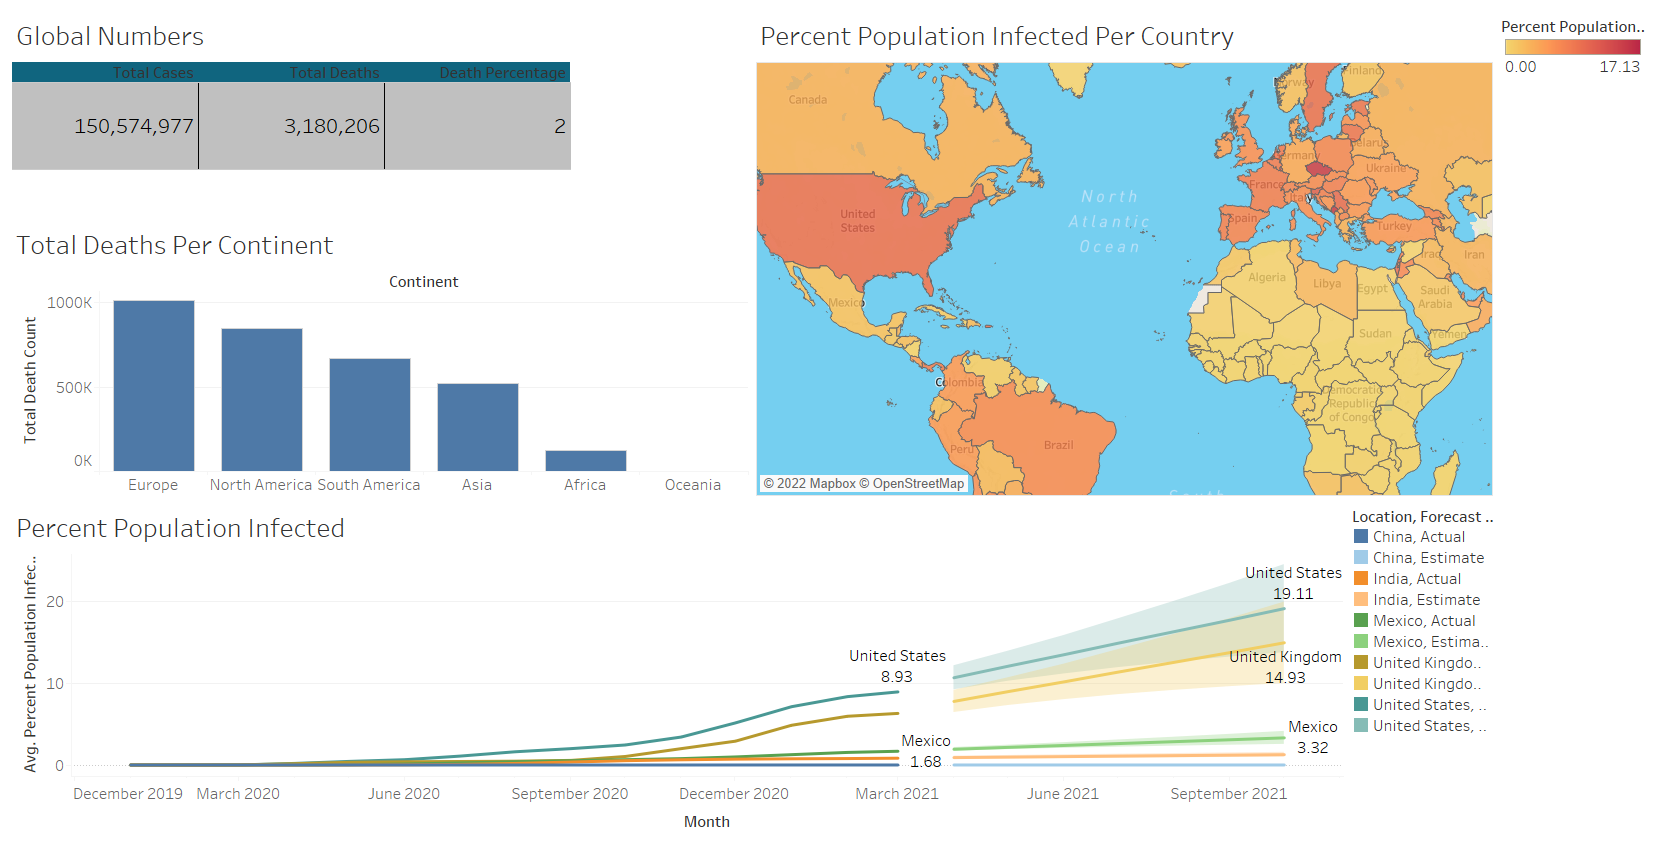

Layout of this report page (visuals, bound fields, positions):
{"tool":"tableau","page":{"name":"Dashboard 1","canvas":[1000,1000],"units":"permille","ordinal":0},"visuals":[{"type":"worksheet","title":"Sheet 1","mark":"Automatic","box":[4.8,9.4,449.3,245.2]},{"type":"worksheet","title":"Sheet 3","mark":"Automatic","box":[454.1,9.4,449.3,578.2]},{"type":"legend","title":"Sheet 3","param":"[federated.1u6pgzk0rhh873144wigi0cf6ax3].[sum:PercentPopulationInfected:qk]","box":[903.4,9.4,91.7,85.8]},{"type":"worksheet","title":"Sheet 2","mark":"Automatic","rows":["TotalDeathCount"],"cols":["location"],"box":[4.8,254.7,449.3,333]},{"type":"worksheet","title":"Sheet 4","mark":"Automatic","rows":["PercentPopulationInfected"],"cols":["date"],"box":[4.8,587.6,808,403]},{"type":"legend","title":"Sheet 4","param":"[federated.0fv2uox0hbhi61182v4641vh426j].[none:Location:nk]\n[federated.0fv2uox0h","box":[812.8,587.6,90.7,403]}]}

Visuals, with their boxes on the dashboard's canvas, which has no fixed pixel size, in thousandths of its width and height (x1, y1, x2, y2). These are canvas units, not pixel positions in the 1657x851 screenshot, which may show the page scaled, cropped or inside an application window:
"Sheet 1" worksheet: 5:9:454:255
"Sheet 3" worksheet: 454:9:903:588
"Sheet 3" legend: 903:9:995:95
"Sheet 2" worksheet: 5:255:454:588
"Sheet 4" worksheet: 5:588:813:991
"Sheet 4" legend: 813:588:904:991
